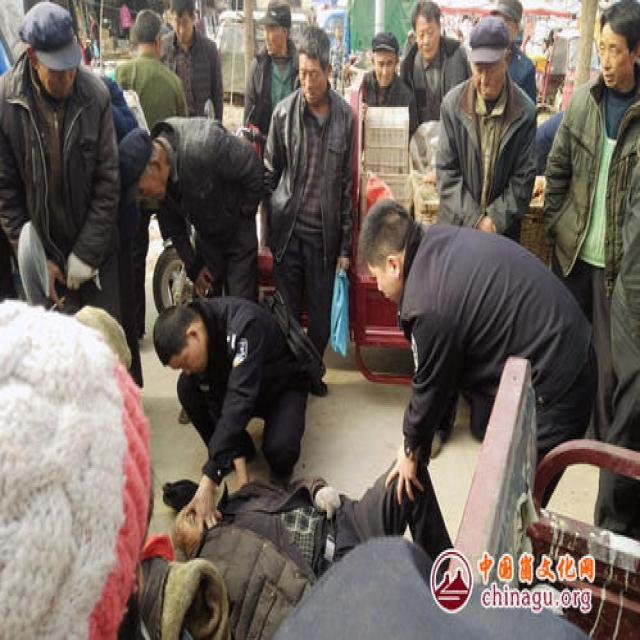10-: (0, 0, 639, 638)
down: (163, 449, 458, 638)
